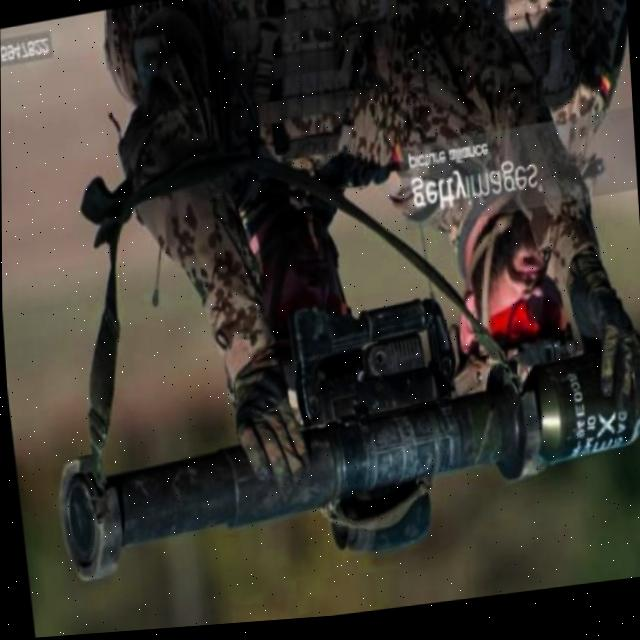rocket: (29, 259, 640, 603)
